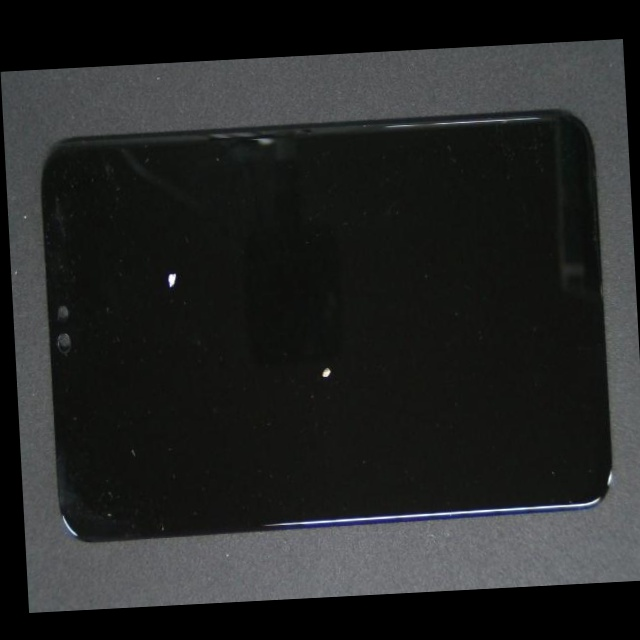stain: (162, 181, 467, 539), (78, 161, 234, 372)
